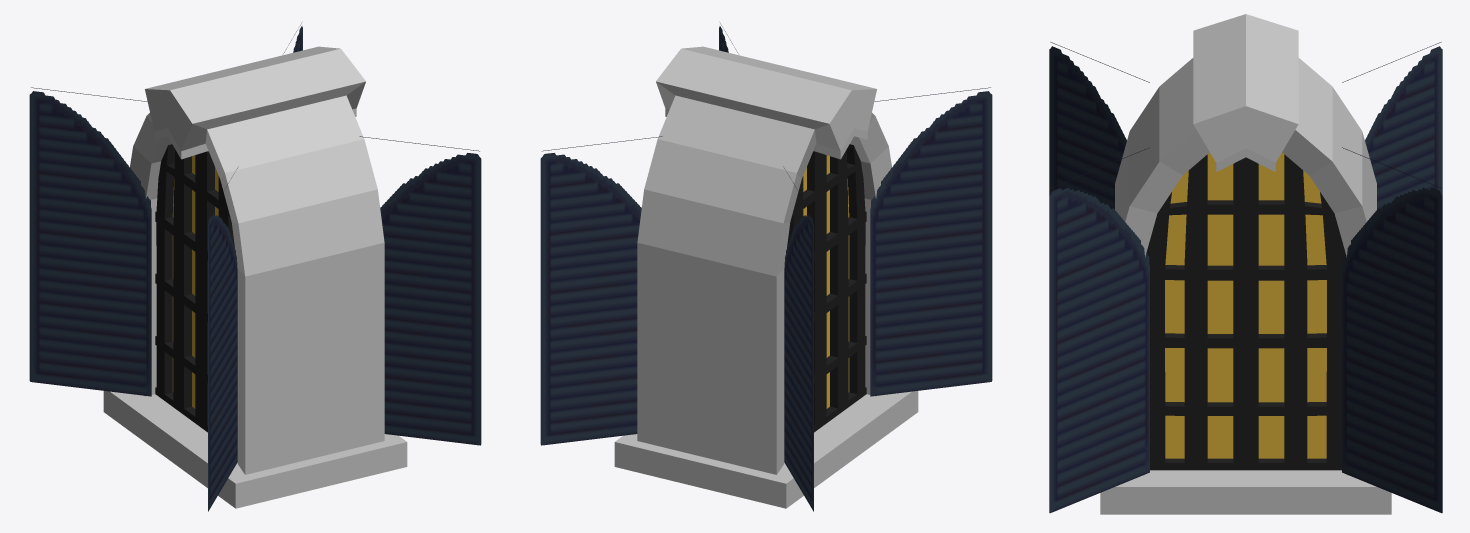
File: Window_Blinds.fbx
3 renders of one model, left to right at view 1: azimuth 30°, elevation 25°; view 2: azimuth 150°, elevation 25°; view 3: azimuth 270°, elevation 25°, orthographic. The views are drawn at different scales.
Parts seen in each view (by area): view 1: Cube.049, Plane.013, Cube.050; view 2: Cube.049, Plane.013, Cube.050; view 3: Plane.013, Cube.050, Cube.049.
Part boxes in pixels (box(x1,y1,x2,y2)): Cube.049: box(103, 46, 407, 508); Plane.013: box(29, 23, 481, 511); Cube.050: box(155, 144, 234, 432); Cube.049: box(614, 46, 918, 508); Plane.013: box(540, 23, 992, 511); Cube.050: box(787, 144, 866, 432); Plane.013: box(1049, 42, 1442, 513); Cube.050: box(1146, 152, 1345, 470); Cube.049: box(1100, 14, 1391, 514).
Size of the model in its own units: 137 by 165 by 153.
